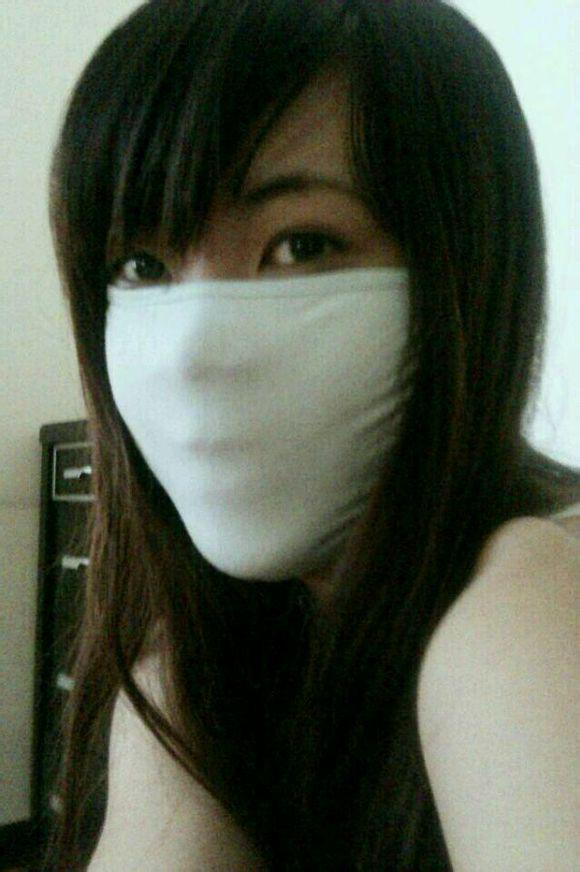OK: (79, 188, 468, 563)
